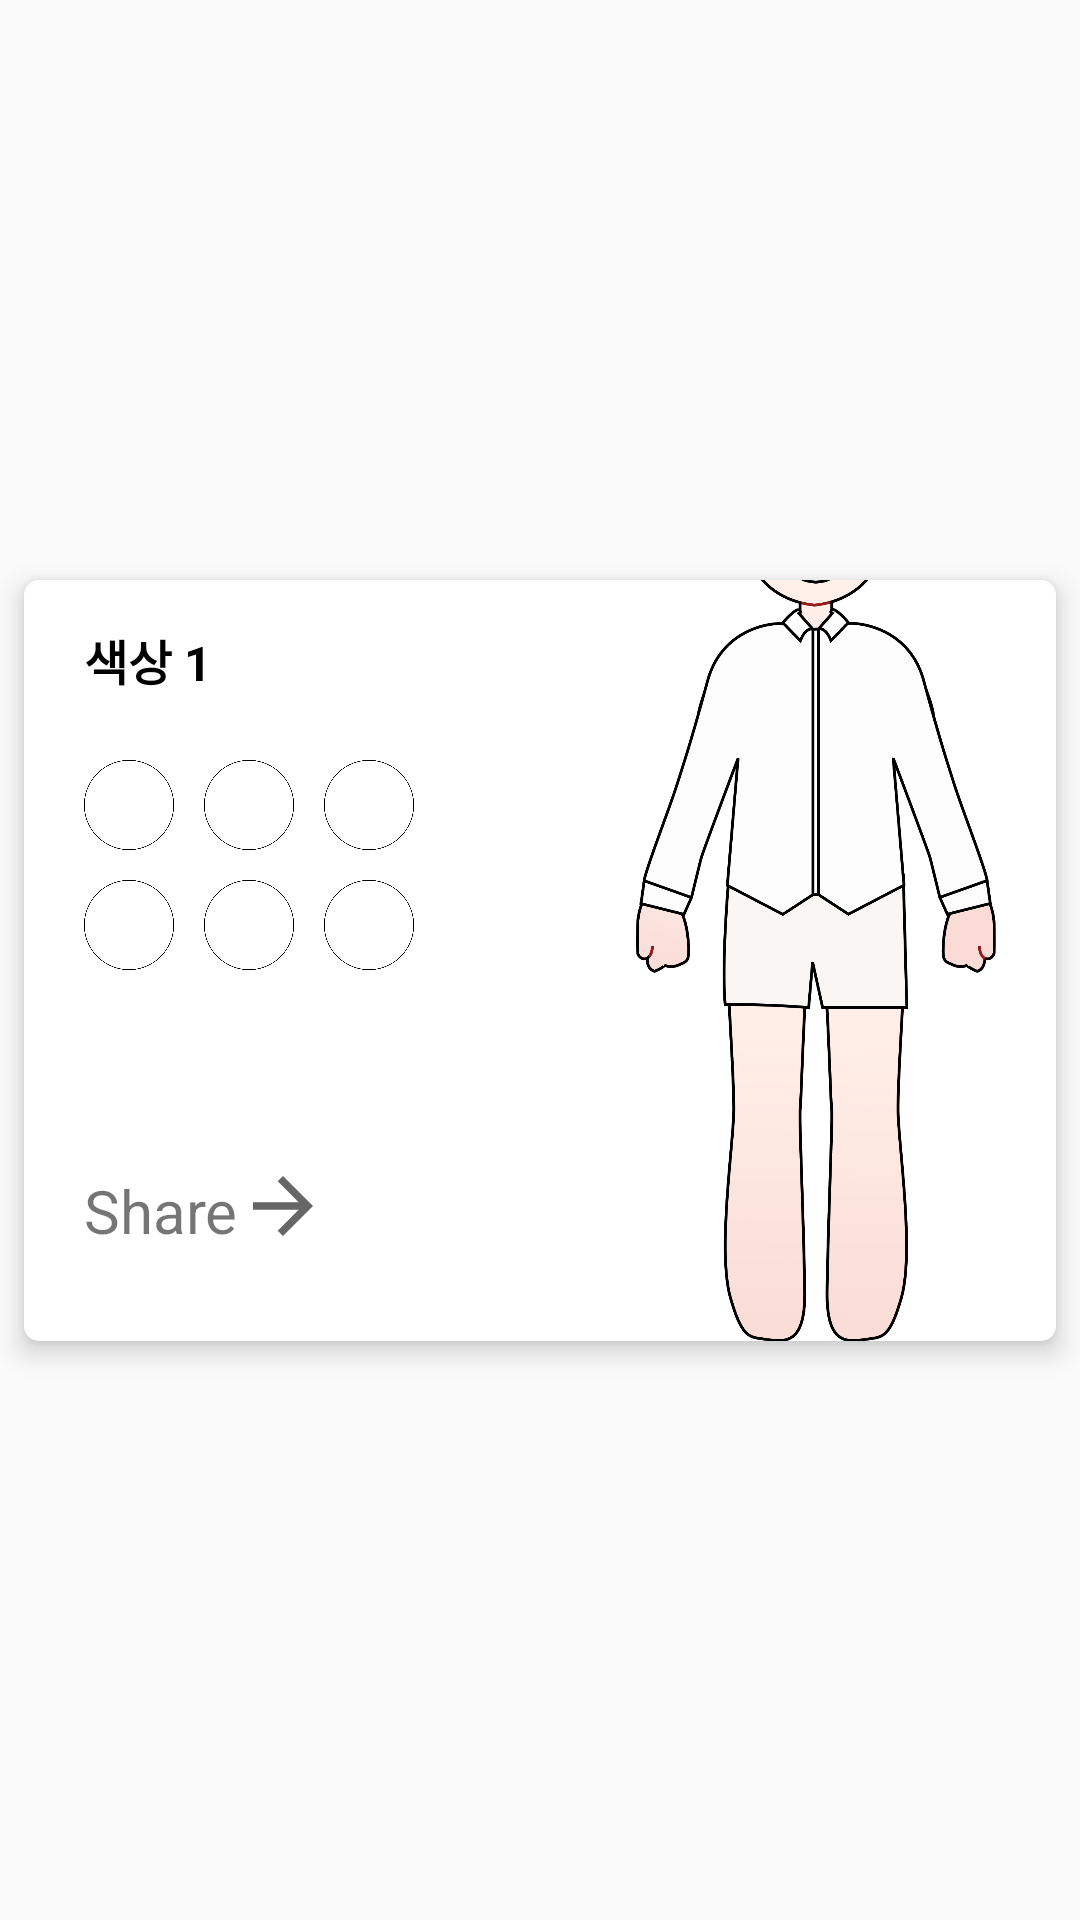

Point at icon controls on the screen. Image size 1080 x 1920, points as (x,y).
circle frame: (129,805), (249,805), (369,805), (129,925), (249,925), (369,925)
right arrow: (283,1206)
